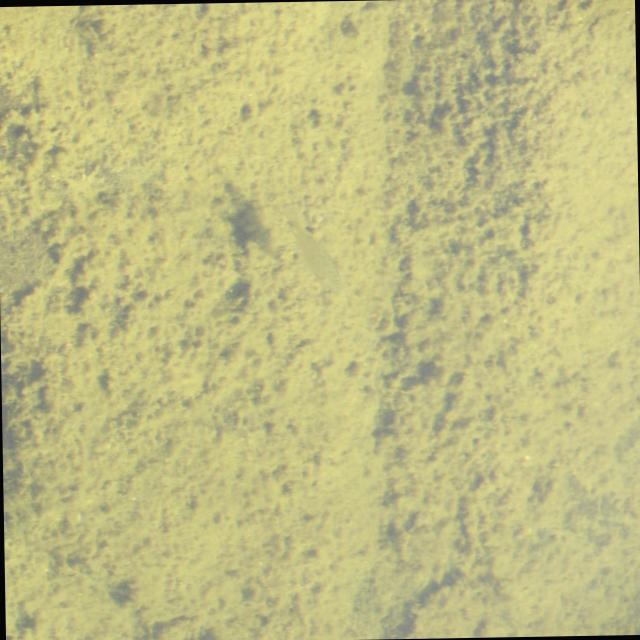Gunes Levregi: (275, 205, 345, 294)
